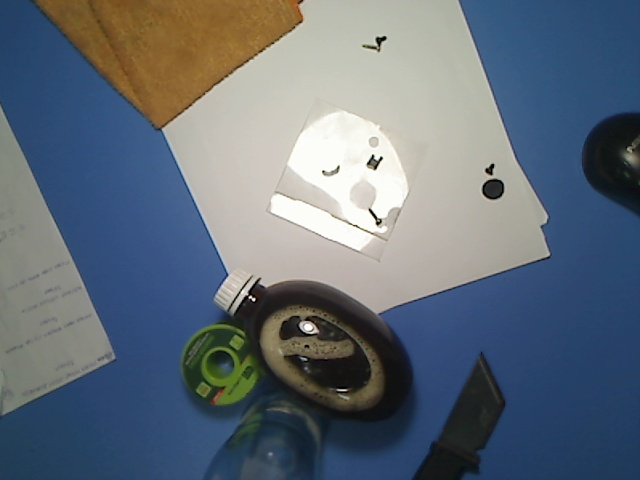plast_bottle: (210, 264, 416, 424)
